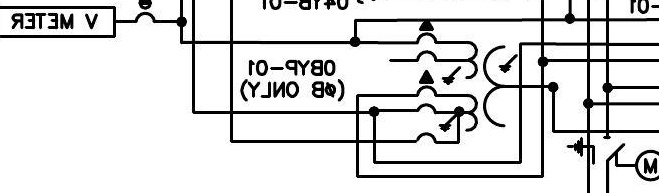115_vt_1p: (415, 19, 519, 133)
